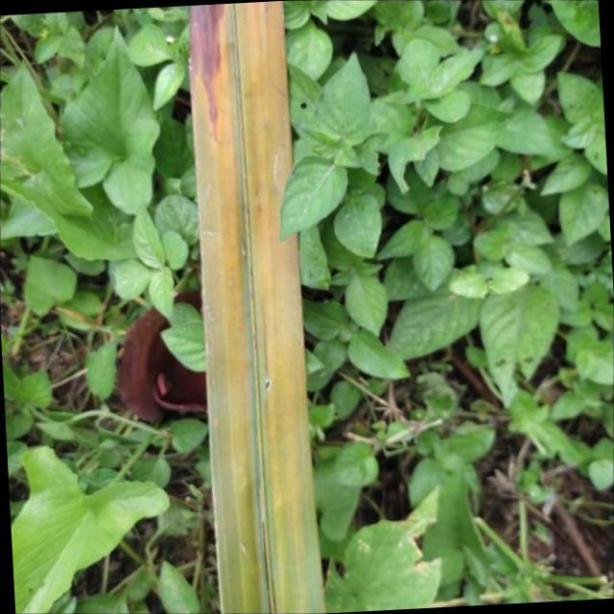Megnesium: (190, 7, 327, 614)
